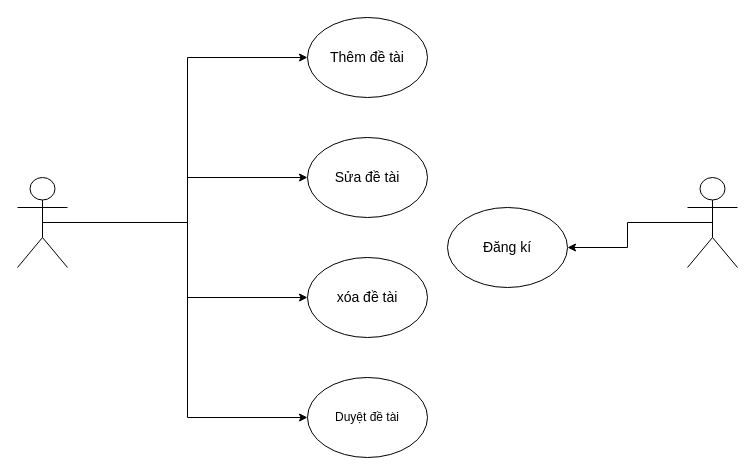
The diagram is 755 pixels wide and 475 high, and some of its shapes have lost their labels. Each missing label, with the box of its shape:
giáo viên: (16, 176, 68, 268)
sinh viên: (686, 176, 738, 268)
